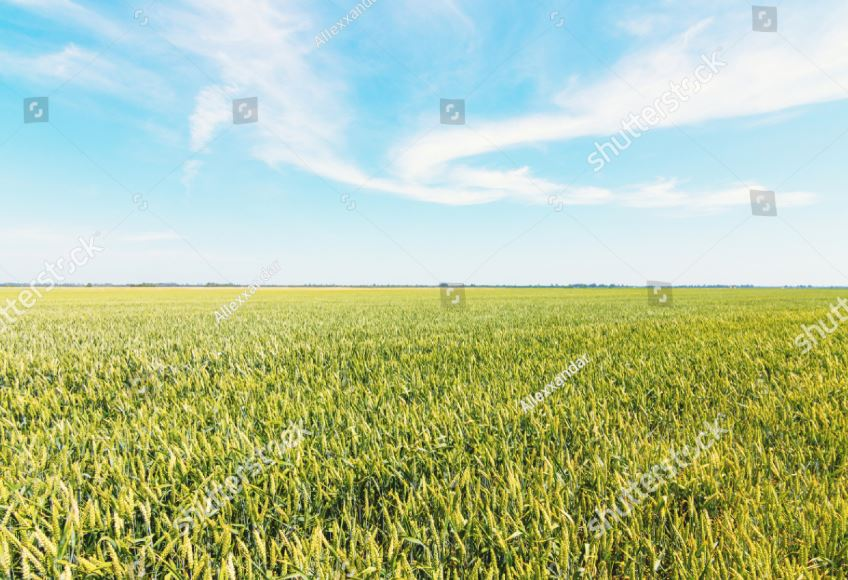Wheat: (35, 421, 192, 567)
